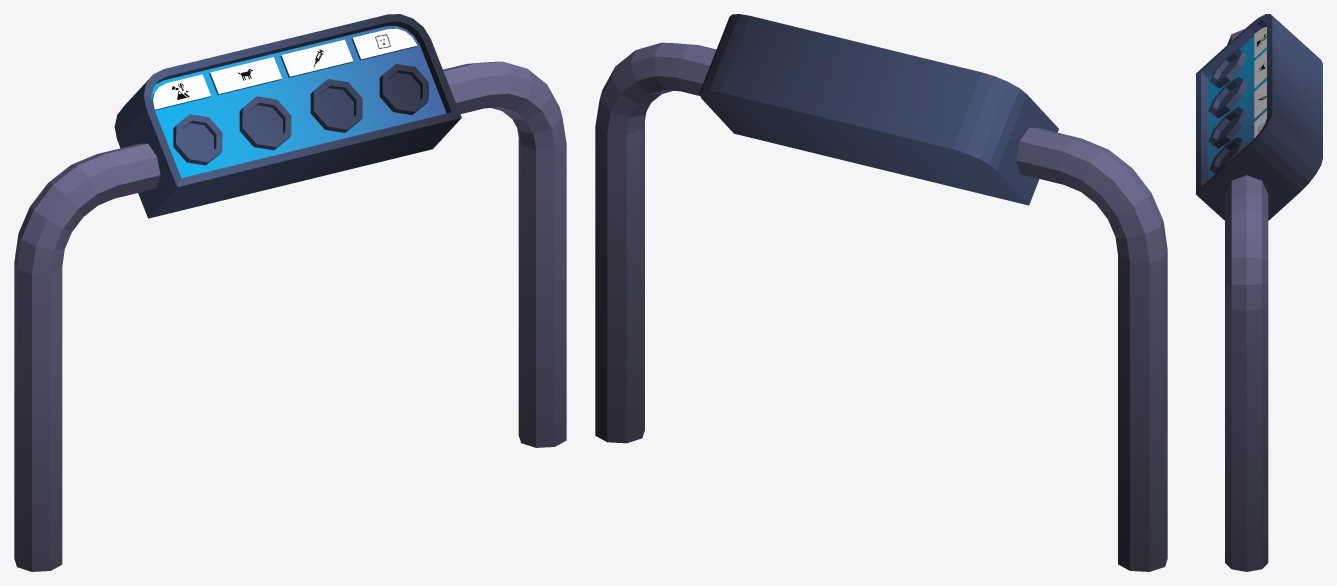
Rendered from lowpolytest.obj.
The picture shows the model from 3 angles, left to right: view 1: azimuth 30°, elevation 25°; view 2: azimuth 150°, elevation 25°; view 3: azimuth 270°, elevation 25°; orthographic projection. The views are drawn at different scales.
Parts seen in each view (by area): view 1: Plane; view 2: Plane; view 3: Plane.
Part boxes in pixels (x1,y1,x2,y2): Plane: (14, 14, 566, 571); Plane: (595, 14, 1167, 571); Plane: (1196, 14, 1322, 571).
Size of the model in its own units: 3.84 by 3.01 by 0.8839.
Materials: 1 (1 with a texture image).
